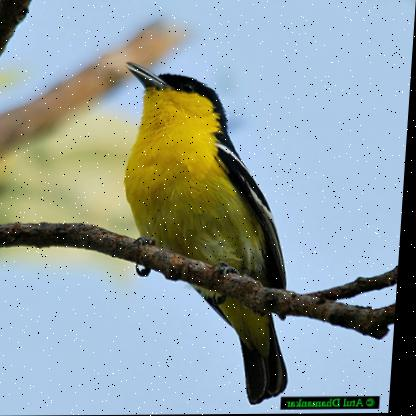Burung: (111, 57, 309, 406)
